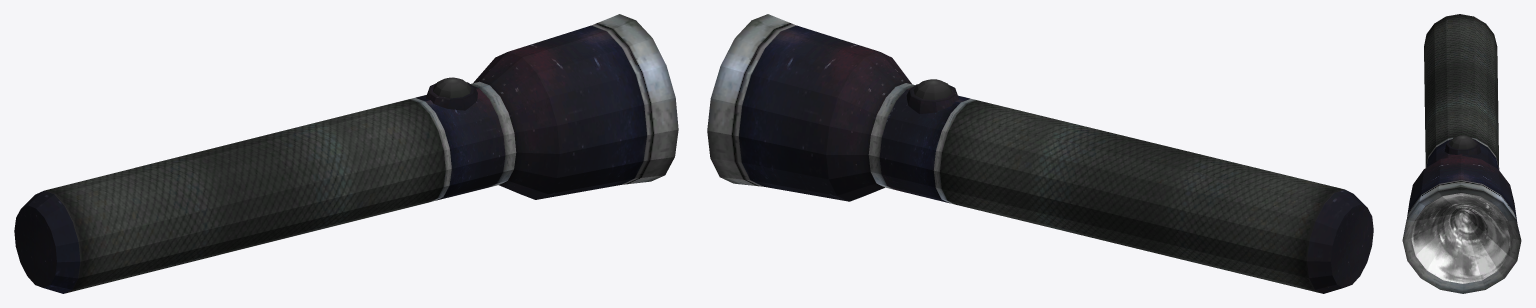
The model's file is SH SM Light.obj.
3 renders of one model, left to right at view 1: azimuth 30°, elevation 25°; view 2: azimuth 150°, elevation 25°; view 3: azimuth 270°, elevation 25°, orthographic. The views are drawn at different scales.
Parts seen in each view (by area): view 1: SH_SM_Light_SH_SM; view 2: SH_SM_Light_SH_SM; view 3: SH_SM_Light_SH_SM, SH_SM_Light_SH_SM_Lig.
Boxes of the visible parts, x1,y1,x2,y2 form: SH_SM_Light_SH_SM: (14,14,678,293); SH_SM_Light_SH_SM: (707,14,1373,293); SH_SM_Light_SH_SM: (1402,14,1521,293); SH_SM_Light_SH_SM_Lig: (1411,193,1512,283).
Size of the model in its own units: 0.2314 by 0.0574 by 0.0579.
Materials: 2 (2 with a texture image).
